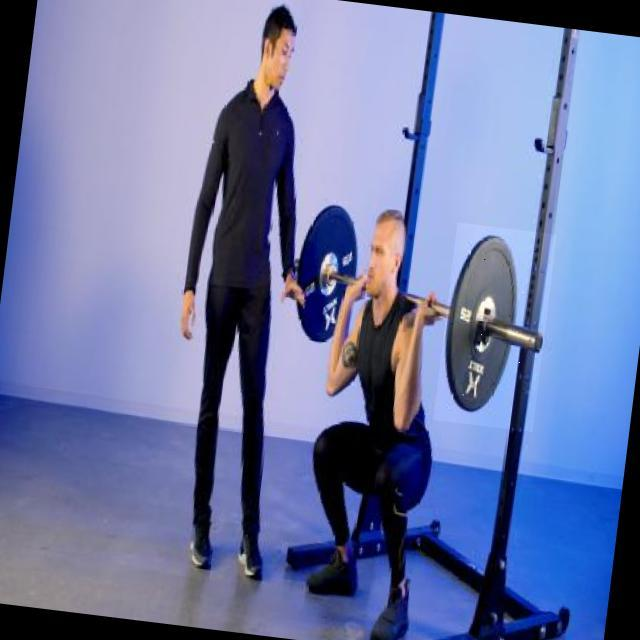barbell: (435, 223, 558, 433)
